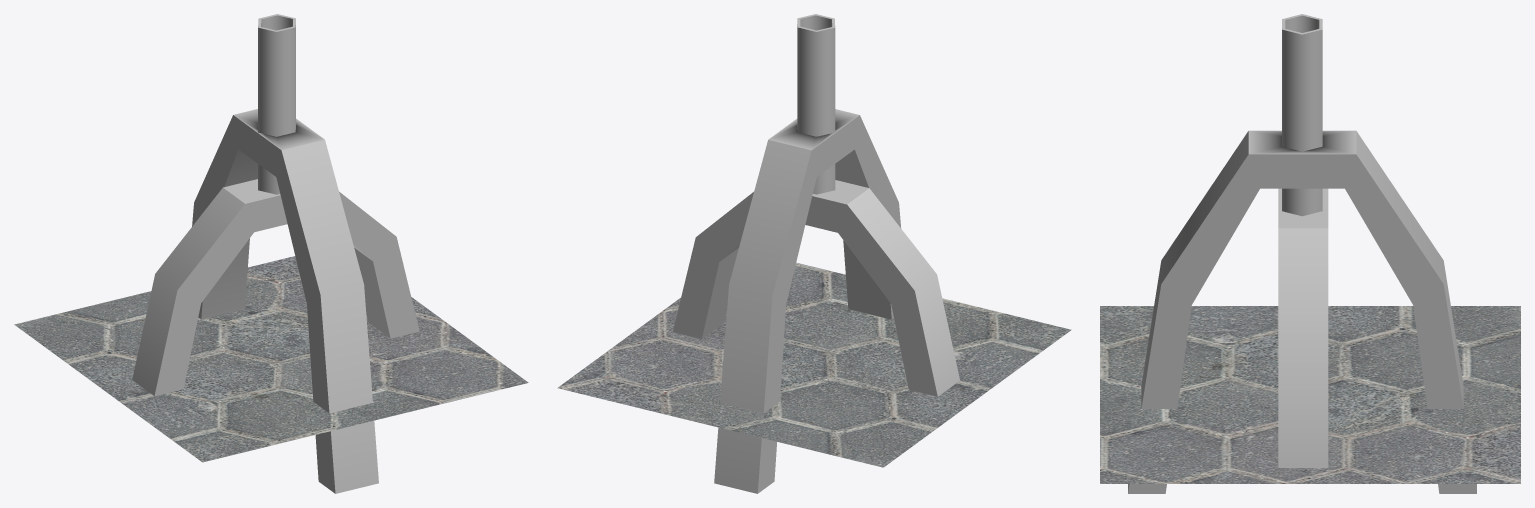
File: ArchPipe_Grid.fbx
3 views of the same model, side by side, from view 1: azimuth 30°, elevation 25°; view 2: azimuth 150°, elevation 25°; view 3: azimuth 270°, elevation 25° (orthographic). The views are drawn at different scales.
Visible parts, largest first — view 1: ArchPipe_Grid, Arch__1_, Arch, Pipe; view 2: ArchPipe_Grid, Arch__1_, Arch, Pipe; view 3: ArchPipe_Grid, Arch__1_, Arch, Pipe.
Part boxes in pixels (box(x1,y1,x2,y2)): ArchPipe_Grid: box(14, 256, 528, 462); Arch__1_: box(192, 109, 378, 493); Arch: box(132, 179, 419, 396); Pipe: box(258, 14, 295, 194); ArchPipe_Grid: box(557, 262, 1071, 467); Arch__1_: box(714, 109, 901, 493); Arch: box(673, 180, 959, 396); Pipe: box(797, 14, 835, 194); ArchPipe_Grid: box(1100, 306, 1520, 483); Arch__1_: box(1128, 130, 1476, 493); Arch: box(1278, 188, 1328, 467); Pipe: box(1282, 14, 1322, 216).
Size of the model in its own units: 10000 by 11975 by 10000.
